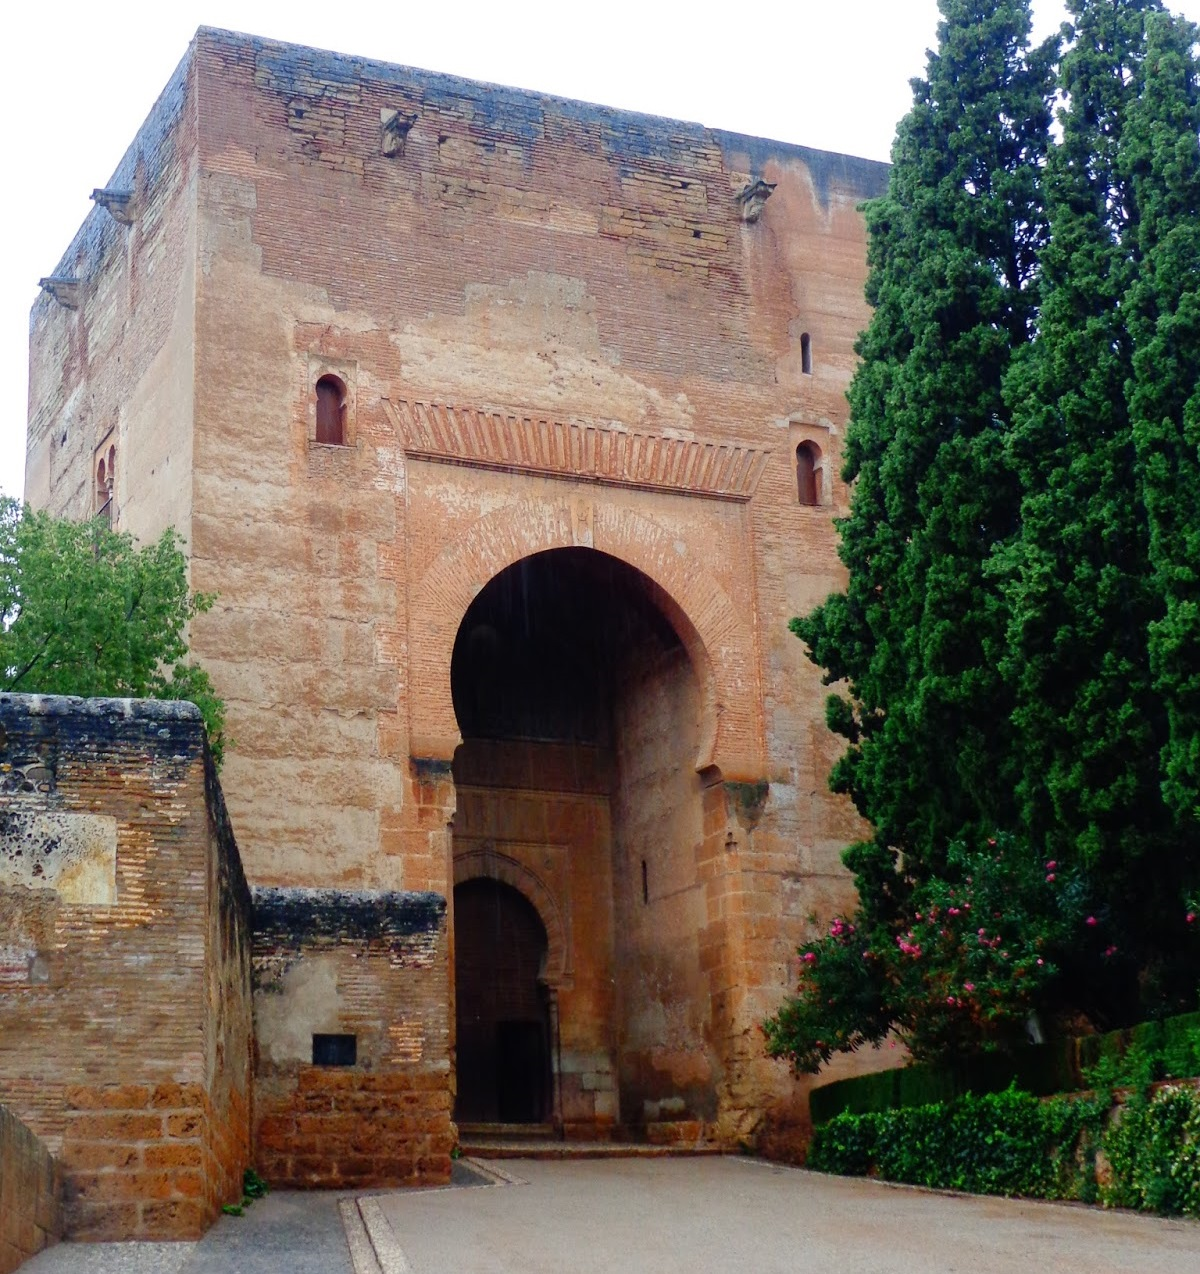arco-herradura: (423, 520, 741, 805)
dintel-adovelado: (379, 393, 768, 503)
